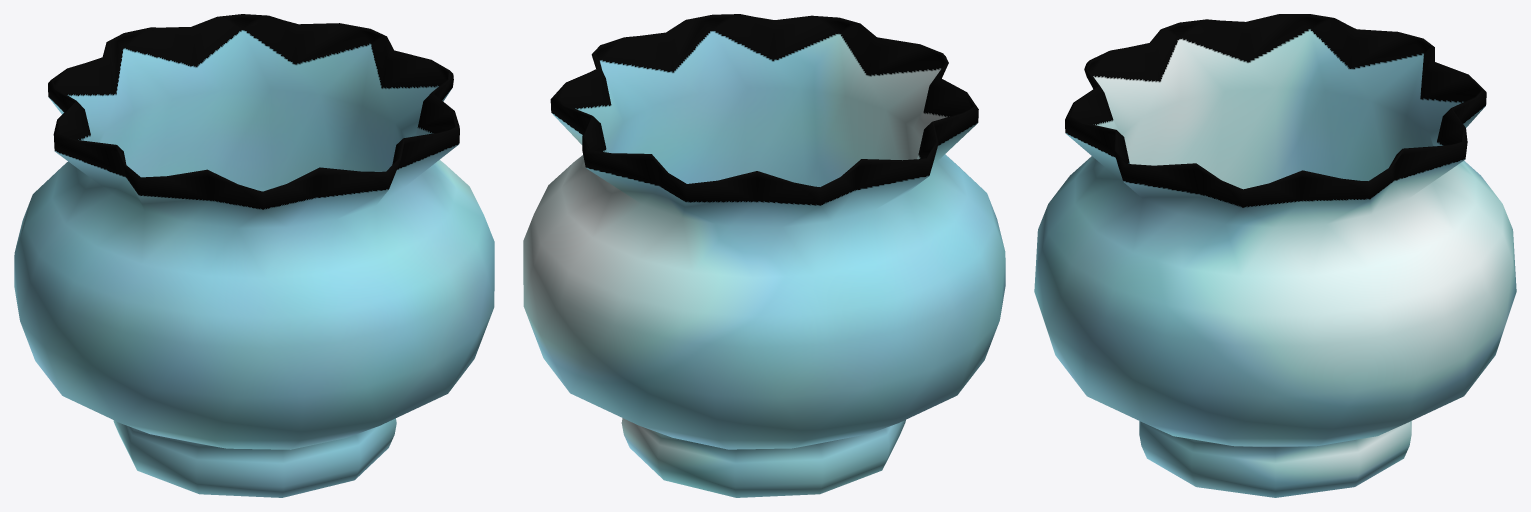
The model's file is item12.fbx.
The picture shows the model from 3 angles, left to right: view 1: azimuth 30°, elevation 25°; view 2: azimuth 150°, elevation 25°; view 3: azimuth 270°, elevation 25°; orthographic projection.
Parts seen in each view (by area): view 1: Icosphere.001; view 2: Icosphere.001; view 3: Icosphere.001.
Boxes of the visible parts, x1=… form: Icosphere.001: x1=14, y1=14, x2=494, y2=497; Icosphere.001: x1=523, y1=14, x2=1005, y2=497; Icosphere.001: x1=1034, y1=14, x2=1516, y2=497.
Bounding box in the file's own units: 0.5 × 0.3943 × 0.4997.
